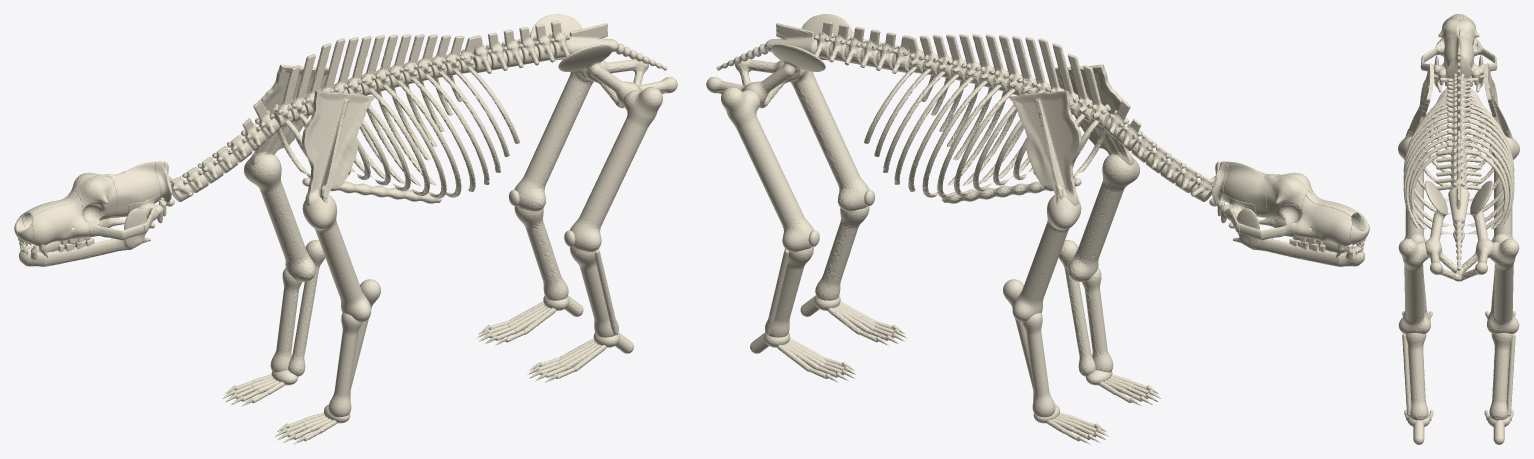
The model's file is cave_bear_all.glb.
3 renders of one model, left to right at view 1: azimuth 30°, elevation 25°; view 2: azimuth 150°, elevation 25°; view 3: azimuth 270°, elevation 25°, orthographic. The views are drawn at different scales.
Parts seen in each view (by area): view 1: scapula_l, femur_l, femur_r, humerus_r, humerus_l, mandible_l, hip_l, maxilla_l, tibia_r, hindpaw_l, hindpaw_r, scapula_r (+23 smaller); view 2: scapula_r, femur_r, femur_l, humerus_l, humerus_r, mandible_r, hip_r, maxilla_r, tibia_l, hindpaw_r, hindpaw_l, scapula_l (+22 smaller); view 3: femur_l, femur_r, hip_l, hip_r, tibia_l, tibia_r, humerus_l, humerus_r, scapula_l, scapula_r, sacrum, fibula_l (+50 smaller).
Boxes of the visible parts, left/top/right/bottom form: scapula_l: left=302, top=90, right=374, bottom=205; femur_l: left=570, top=86, right=662, bottom=251; femur_r: left=514, top=69, right=593, bottom=211; humerus_r: left=244, top=154, right=315, bottom=282; humerus_l: left=302, top=194, right=371, bottom=322; mandible_l: left=20, top=208, right=155, bottom=266; hip_l: left=558, top=44, right=677, bottom=108; maxilla_l: left=31, top=195, right=98, bottom=257; tibia_r: left=514, top=206, right=568, bottom=300; hindpaw_l: left=527, top=332, right=633, bottom=382; hindpaw_r: left=477, top=295, right=583, bottom=345; scapula_r: left=250, top=64, right=328, bottom=165; scapula_r: left=1009, top=90, right=1081, bottom=205; femur_r: left=721, top=86, right=813, bottom=251; femur_l: left=790, top=69, right=869, bottom=211; humerus_l: left=1068, top=154, right=1139, bottom=282; humerus_r: left=1012, top=194, right=1081, bottom=322; mandible_r: left=1228, top=208, right=1363, bottom=266; hip_r: left=706, top=44, right=825, bottom=108; maxilla_r: left=1285, top=195, right=1352, bottom=257; tibia_l: left=815, top=206, right=869, bottom=300; hindpaw_r: left=750, top=332, right=856, bottom=382; hindpaw_l: left=800, top=295, right=906, bottom=345; scapula_l: left=1055, top=64, right=1133, bottom=165; femur_l: left=1398, top=238, right=1430, bottom=333; femur_r: left=1487, top=238, right=1519, bottom=333; hip_l: left=1424, top=180, right=1458, bottom=281; hip_r: left=1459, top=180, right=1493, bottom=281; tibia_l: left=1405, top=333, right=1428, bottom=420; tibia_r: left=1489, top=333, right=1512, bottom=420; humerus_l: left=1398, top=136, right=1428, bottom=241; humerus_r: left=1489, top=136, right=1519, bottom=241; scapula_l: left=1404, top=63, right=1433, bottom=139; scapula_r: left=1484, top=63, right=1513, bottom=139; sacrum: left=1448, top=185, right=1469, bottom=222; fibula_l: left=1402, top=333, right=1411, bottom=416.
Size of the model in its own units: 4.47 by 2.37 by 0.9114.
